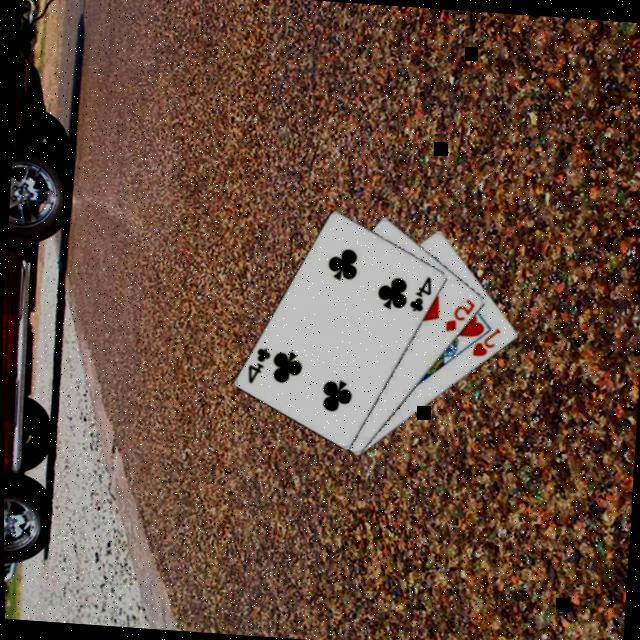4C: (404, 270, 434, 314), (243, 341, 273, 385)
5D: (440, 292, 477, 334)
JH: (467, 322, 501, 359)
